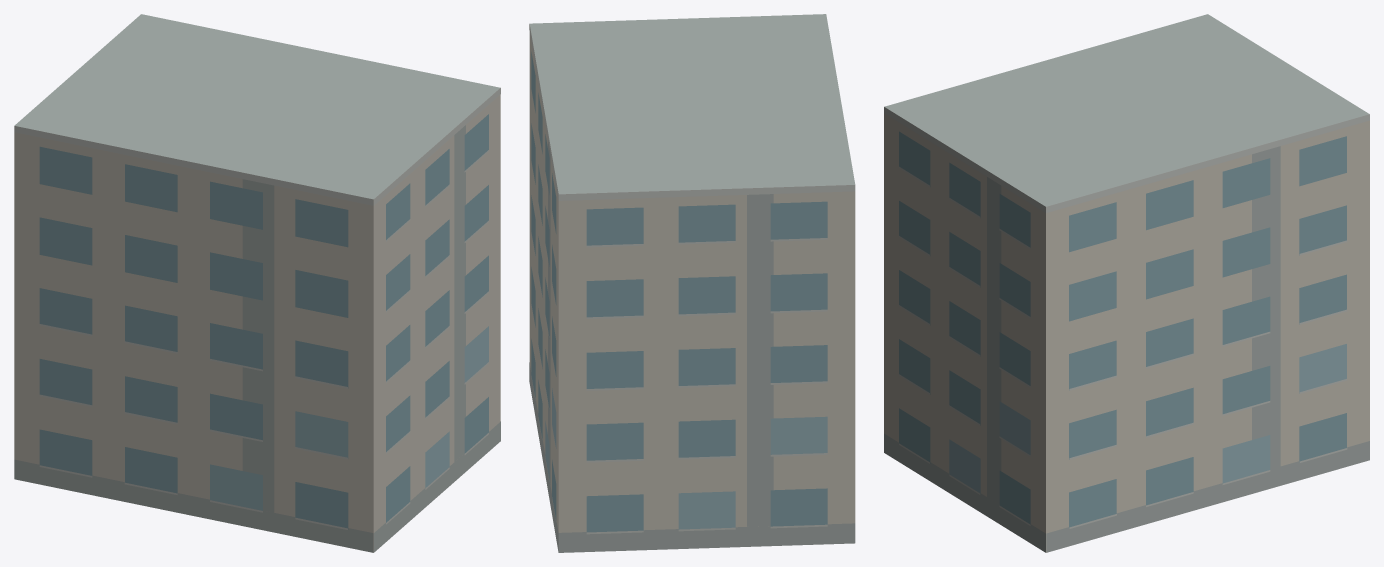
The model's file is survey-upis-32842159.glb.
3 renders of one model, left to right at view 1: azimuth 30°, elevation 25°; view 2: azimuth 150°, elevation 25°; view 3: azimuth 270°, elevation 25°, orthographic. The views are drawn at different scales.
Visible parts, largest first — view 1: survey-upis-32842159.tmp; view 2: survey-upis-32842159.tmp; view 3: survey-upis-32842159.tmp.
Part boxes in pixels (x1=…): survey-upis-32842159.tmp: x1=14, y1=14, x2=500, y2=552; survey-upis-32842159.tmp: x1=529, y1=14, x2=855, y2=552; survey-upis-32842159.tmp: x1=884, y1=14, x2=1369, y2=552.
Size of the model in its own units: 15.91 by 13.3 by 16.93.
